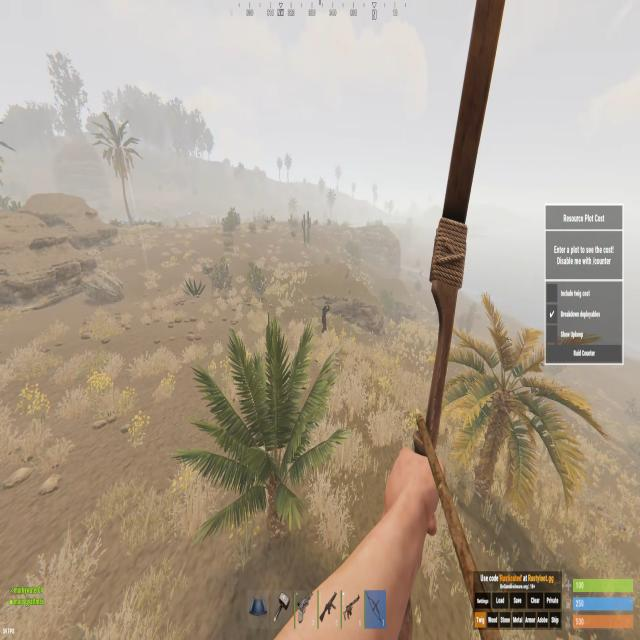Player: (322, 304, 329, 334)
